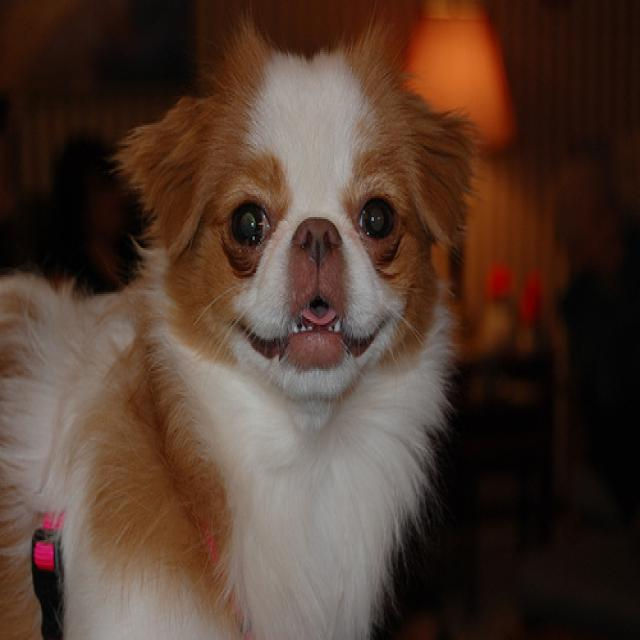dog-japanese_chin: (1, 21, 472, 636)
